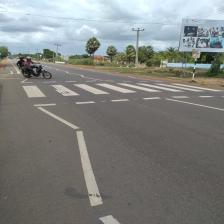crossing: (19, 74, 223, 115)
